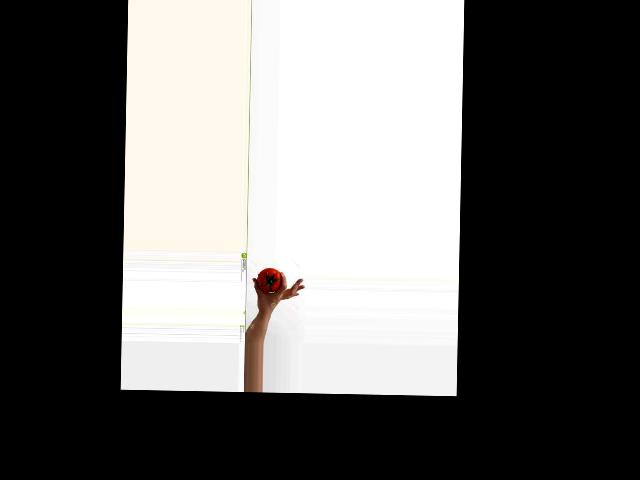tomato: (256, 268, 281, 292)
